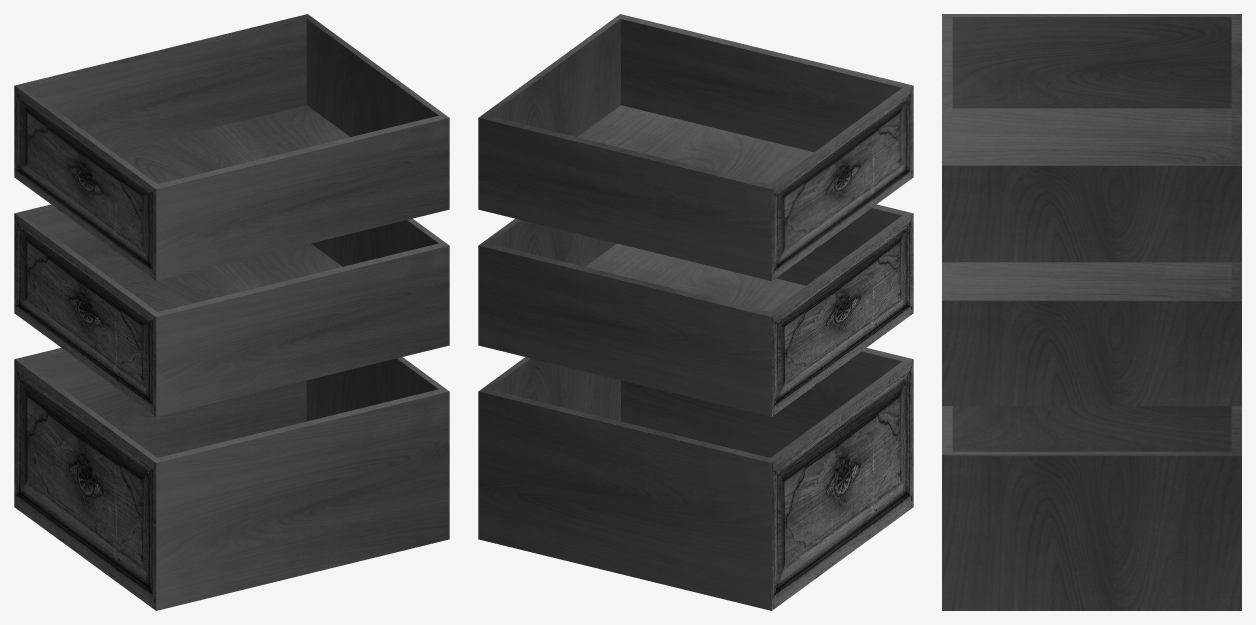
File: Drawer.fbx
3 renders of one model, left to right at view 1: azimuth 30°, elevation 25°; view 2: azimuth 150°, elevation 25°; view 3: azimuth 270°, elevation 25°, orthographic. The views are drawn at different scales.
Parts seen in each view (by area): view 1: polySurface6, polySurface10, polySurface9; view 2: polySurface6, polySurface10, polySurface9; view 3: polySurface10, polySurface6, polySurface9.
Boxes of the visible parts, x1,y1,x2,y2 form: polySurface6: (14,348,449,610); polySurface10: (14,14,449,280); polySurface9: (14,204,449,416); polySurface6: (478,348,913,610); polySurface10: (478,14,913,280); polySurface9: (478,204,913,416); polySurface10: (942,14,1241,262); polySurface6: (942,406,1241,610); polySurface9: (942,262,1241,405).
Bounding box in the file's own units: 2.18 × 3 × 1.83.
